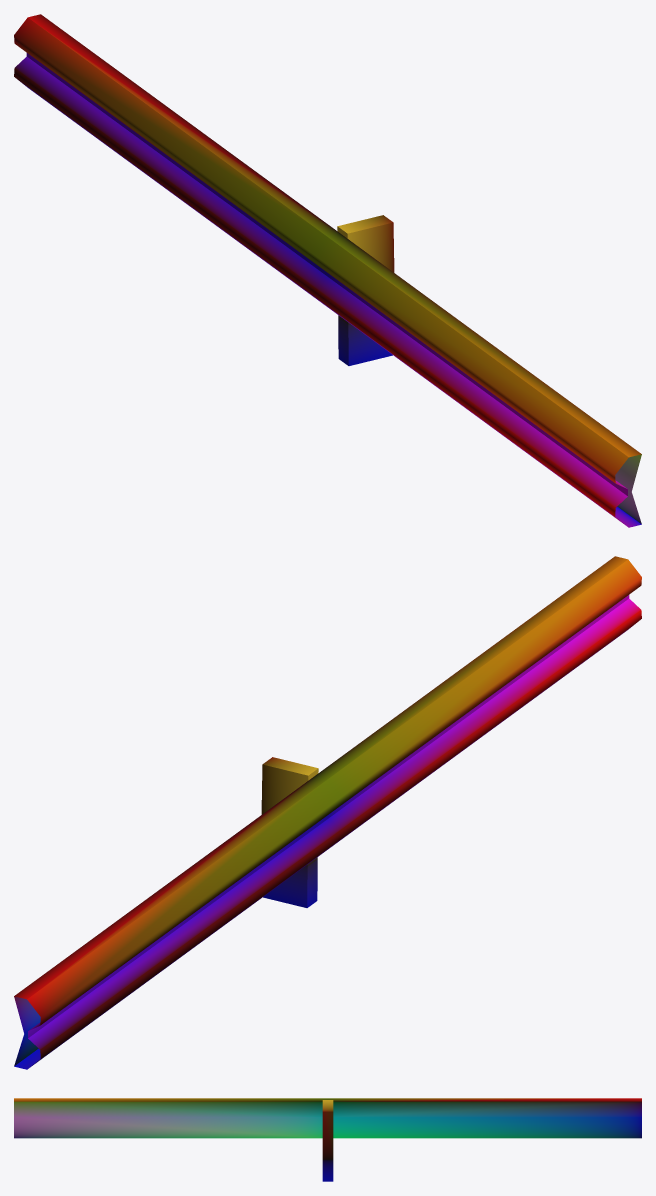
The model's file is Crash_Barrier_Fixed.fbx.
3 views of the same model, one above another, from view 1: azimuth 30°, elevation 25°; view 2: azimuth 150°, elevation 25°; view 3: azimuth 270°, elevation 25° (orthographic). The views are drawn at different scales.
Parts seen in each view (by area): view 1: Crash_Barrier_Fixed; view 2: Crash_Barrier_Fixed; view 3: Crash_Barrier_Fixed.
Part boxes in pixels (left/top/right/bottom): Crash_Barrier_Fixed: left=14, top=14, right=641, bottom=527; Crash_Barrier_Fixed: left=14, top=556, right=641, bottom=1069; Crash_Barrier_Fixed: left=14, top=1098, right=641, bottom=1181.
Bounding box in the file's own units: 0.477 × 0.7952 × 6.52.
